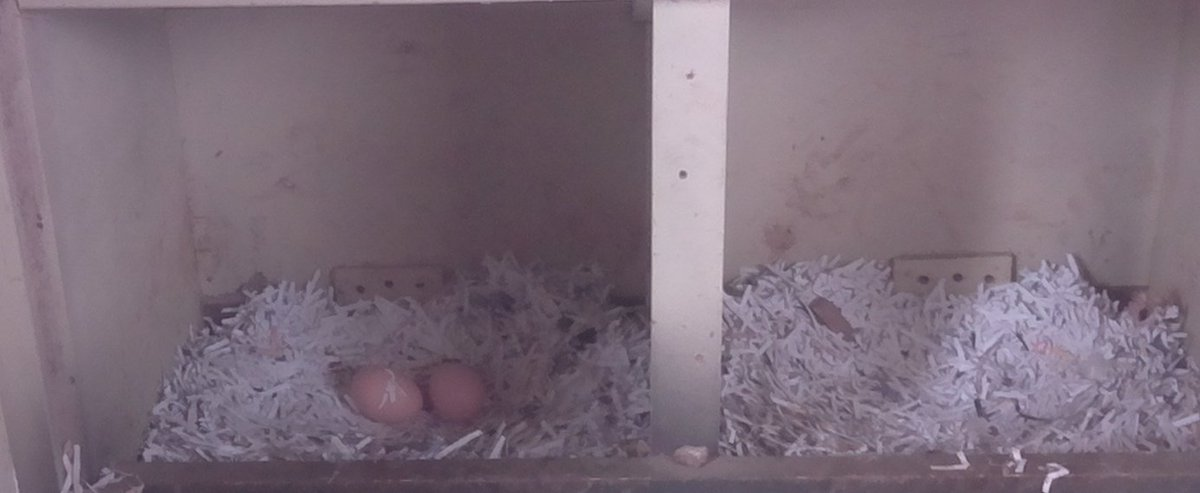egg: (343, 362, 428, 428), (426, 359, 492, 425)
